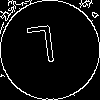L: (25, 25, 58, 74)
